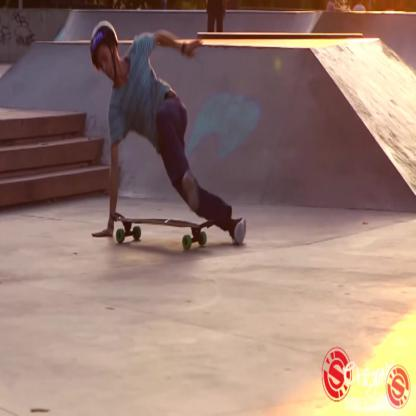Fall_Down: (88, 18, 249, 245)
